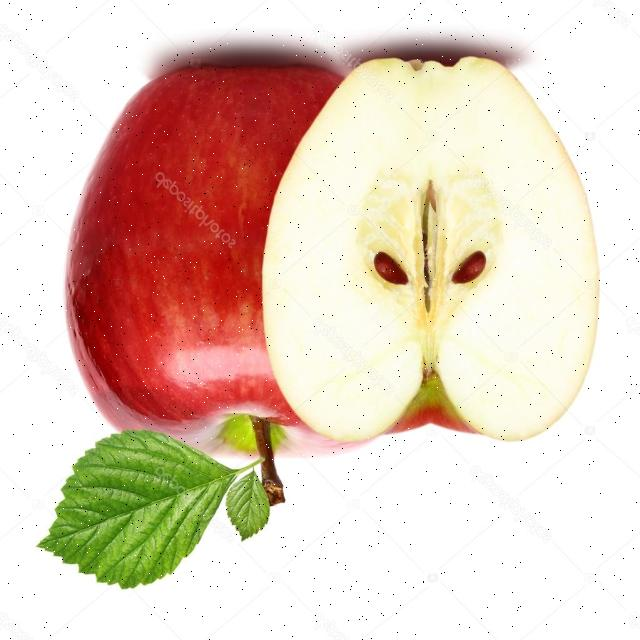Apel: (63, 62, 387, 500), (260, 56, 600, 446)
